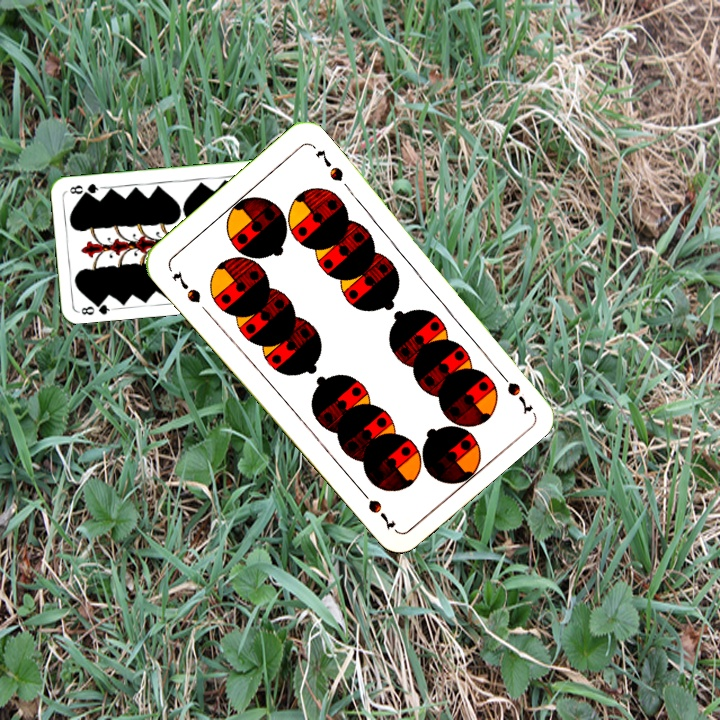G8: (75, 297, 116, 318)
S7: (492, 364, 536, 415), (168, 267, 204, 306)
